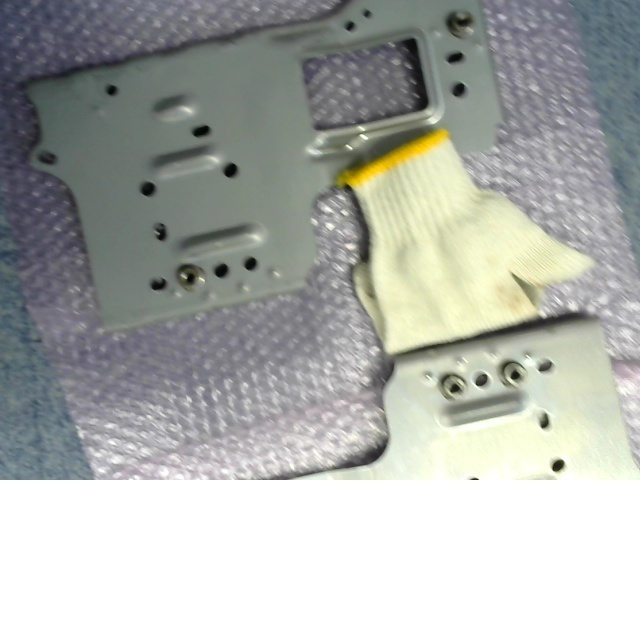dog: (435, 371, 469, 402), (447, 10, 476, 40), (176, 263, 204, 292), (502, 361, 526, 387)
